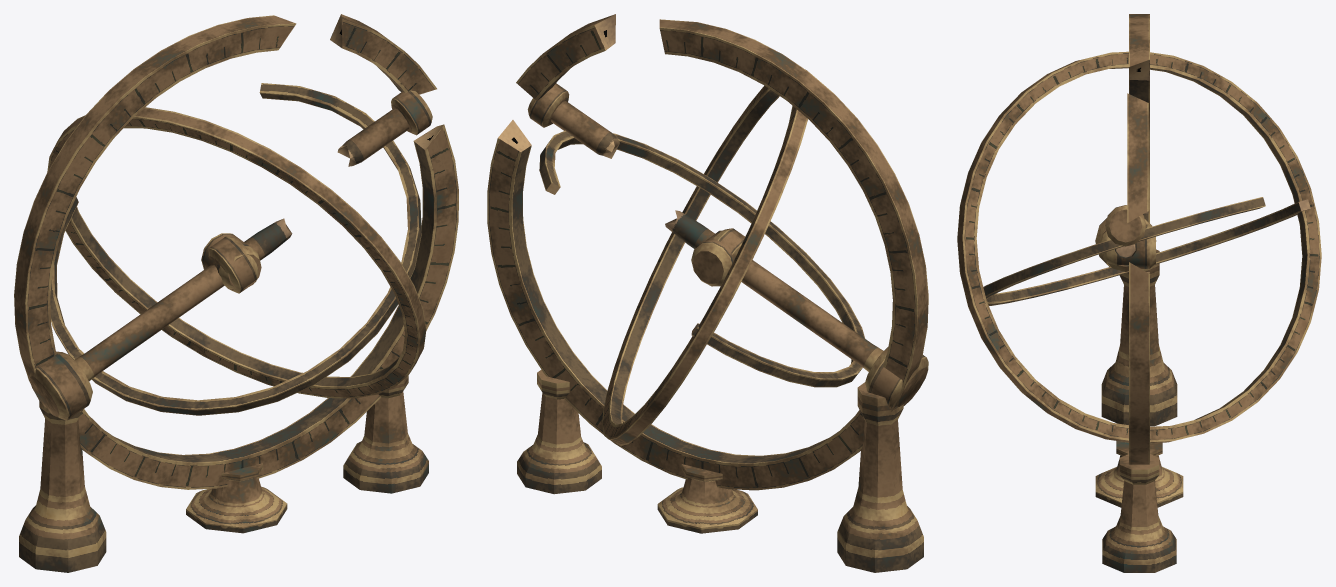
Rendered from BrokenArmillary.fbx.
3 views of the same model, side by side, from view 1: azimuth 30°, elevation 25°; view 2: azimuth 150°, elevation 25°; view 3: azimuth 270°, elevation 25° (orthographic). The views are drawn at different scales.
Visible parts, largest first — view 1: BrokenArmillary; view 2: BrokenArmillary; view 3: BrokenArmillary.
Boxes of the visible parts, bbox=[...] form: BrokenArmillary: bbox=[14, 14, 458, 572]; BrokenArmillary: bbox=[487, 14, 928, 572]; BrokenArmillary: bbox=[957, 14, 1321, 572].
Bounding box in the file's own units: 2.55 × 2.74 × 1.99.
